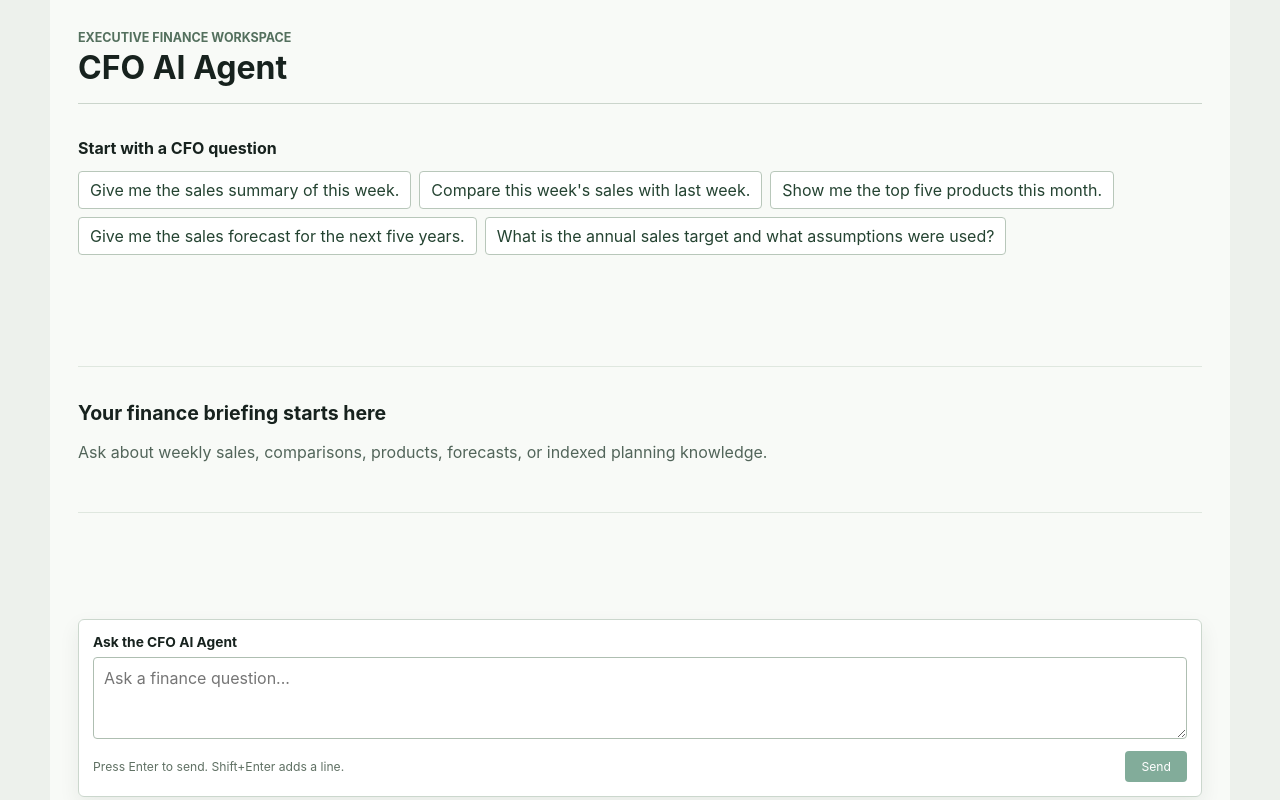
Scenario: App › shows a useful error when the API fails
Type "Give me the sales summary of this week." into the text box labelled "Ask the CFO AI Agent".
click(640, 698); type("Give me the sales summary of this week.")  # box 93,658 -> 1187,740
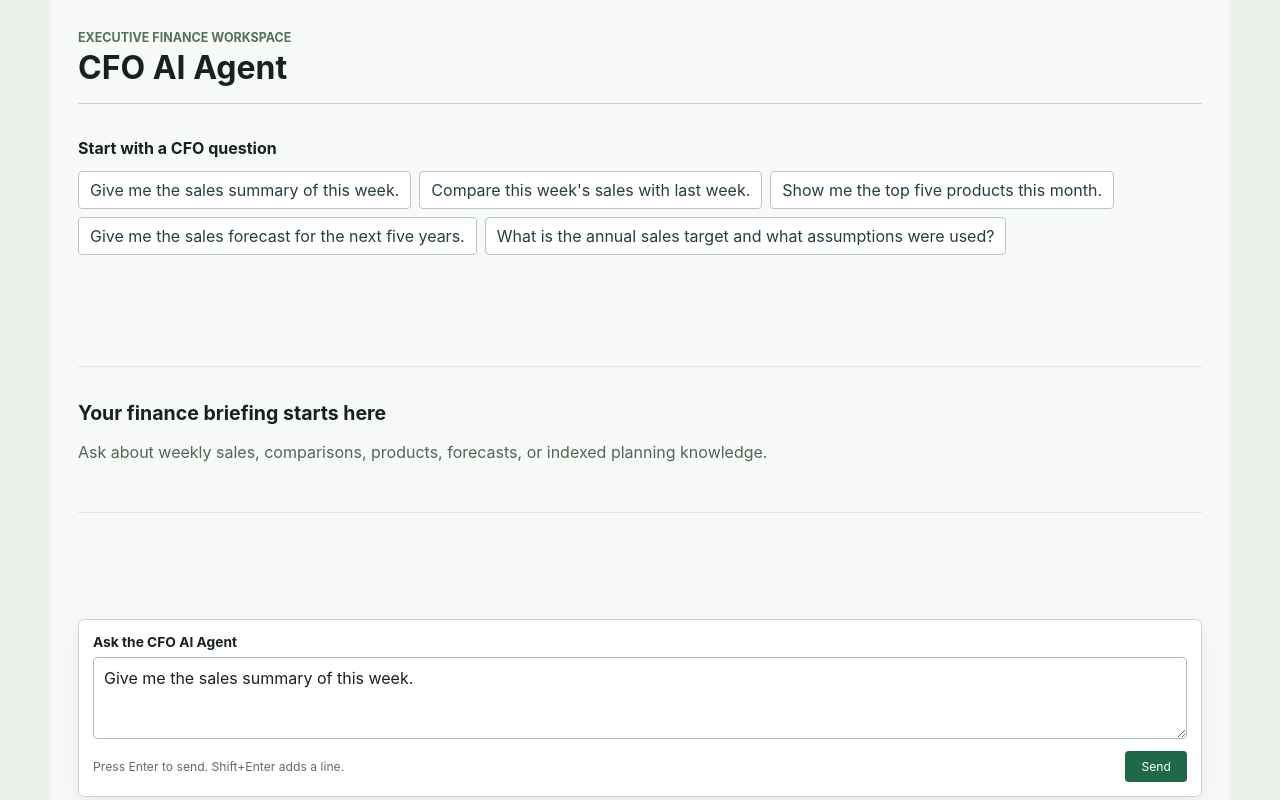
Submit the form labelled "Ask the CFO AI Agent", box 78,620 -> 1202,798
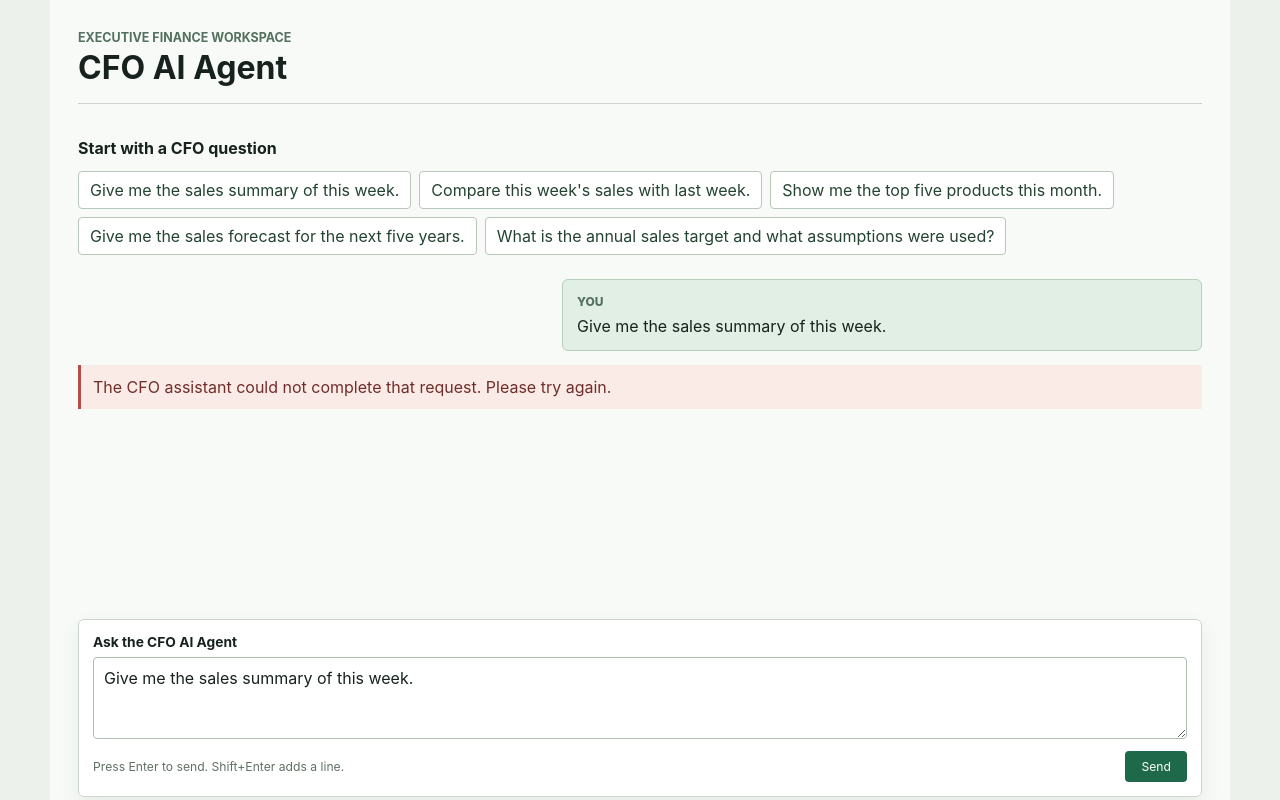
Now the message shows "could not complete that request", box 93,378 -> 611,398
